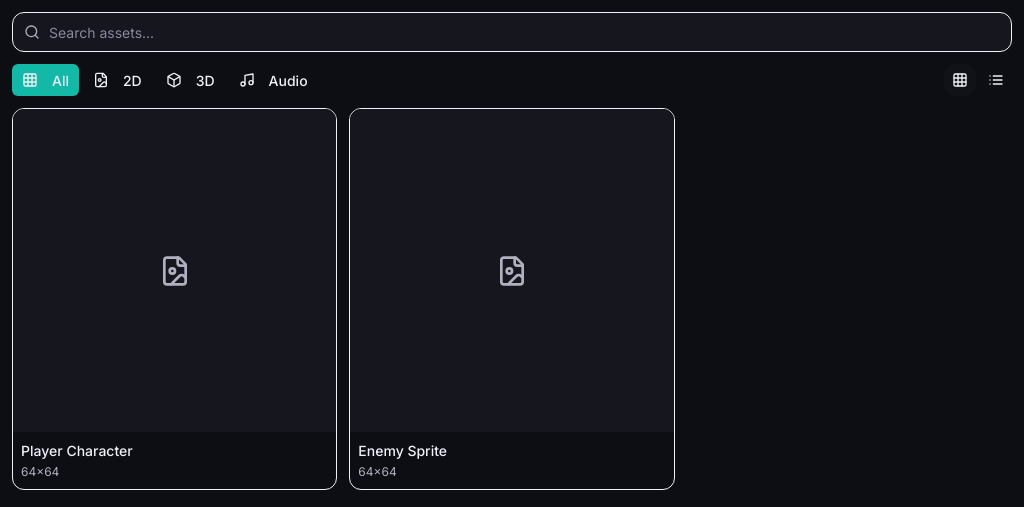
Test: AssetGallery › searches assets by name
Type "player" into the field with placeholder "Search assets..." at [512, 32], box [12,12,1012,52]
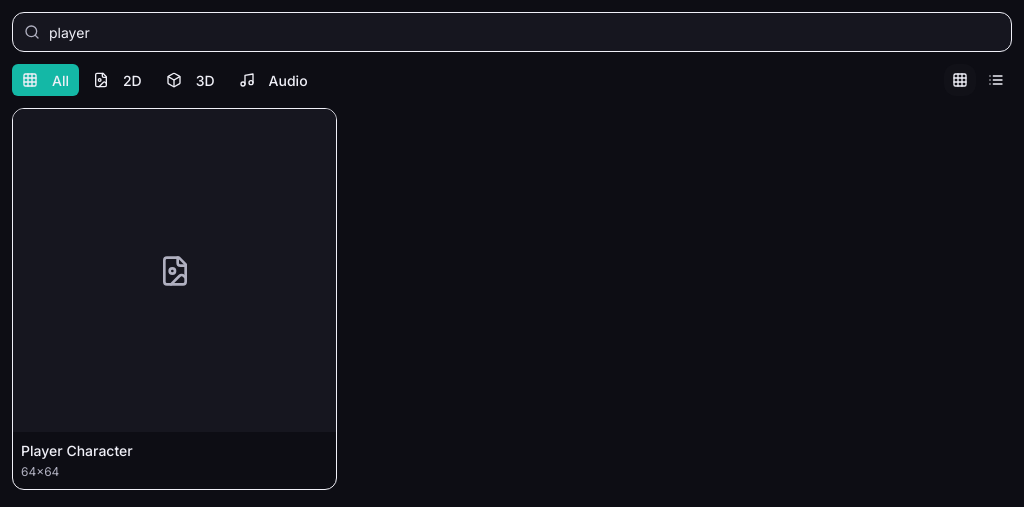
Expected: the text "Player Character" is shown, [21,442,133,459]
Now the text "Enemy Sprite" is gone
